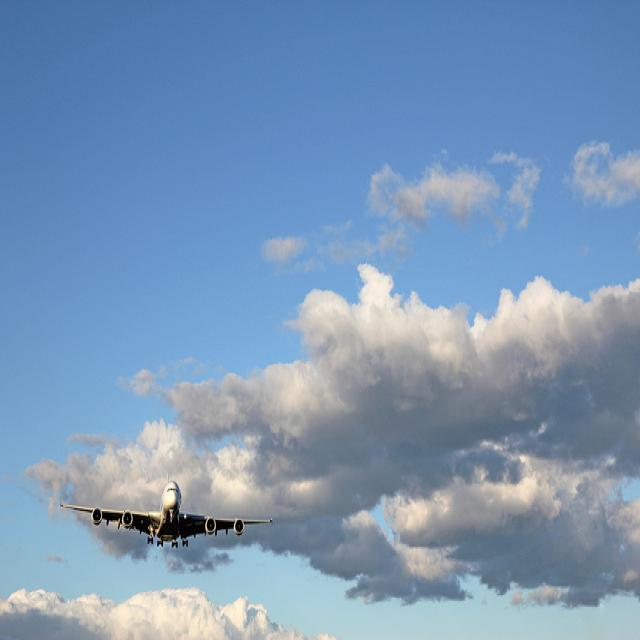airplane: (58, 480, 274, 551)
